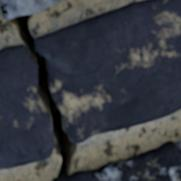brick: (53, 142, 180, 180), (0, 0, 62, 16)
broken_brick: (36, 0, 180, 143), (0, 44, 53, 170)
crack: (0, 2, 77, 178)
